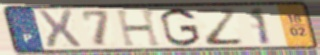1: (246, 6, 275, 46)
7: (80, 9, 113, 48)
G: (158, 7, 203, 48)
H: (113, 8, 165, 48)
X: (35, 9, 85, 50)
Z: (194, 7, 247, 47)
